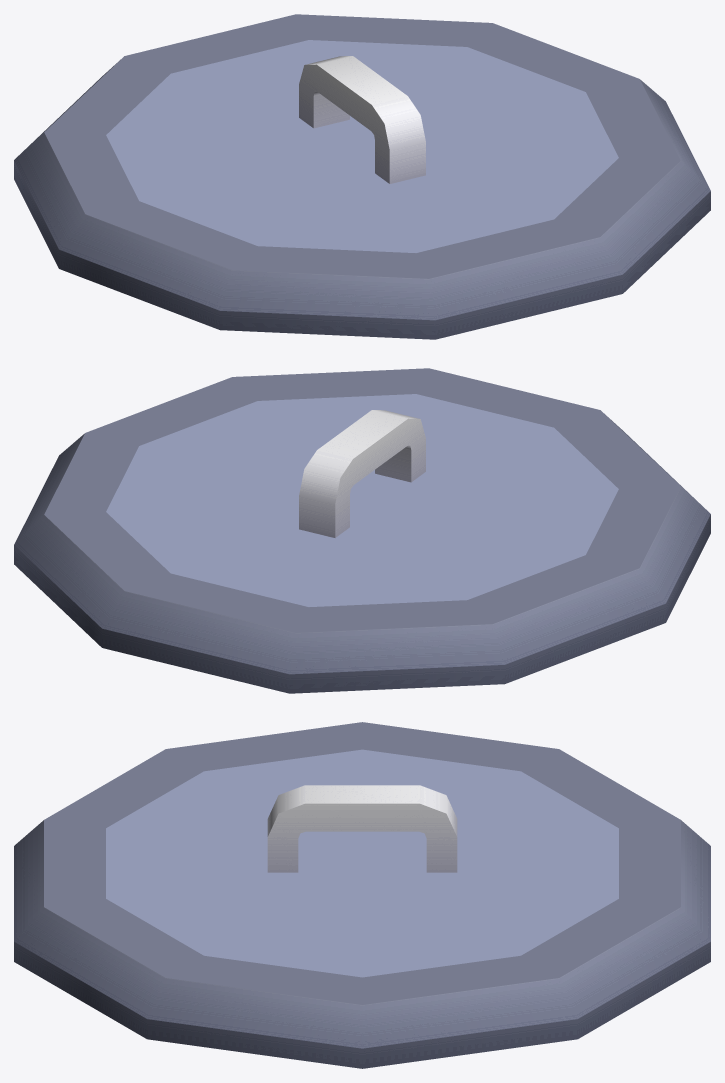
Rendered from pot-lid.glb.
3 views of the same model, one above another, from view 1: azimuth 30°, elevation 25°; view 2: azimuth 150°, elevation 25°; view 3: azimuth 270°, elevation 25° (orthographic). The views are drawn at different scales.
Parts seen in each view (by area): view 1: pot-lid; view 2: pot-lid; view 3: pot-lid.
Part boxes in pixels (x1,y1,x2,y2): pot-lid: (14, 14, 710, 339); pot-lid: (14, 368, 710, 693); pot-lid: (14, 722, 710, 1068).
Bounding box in the file's own units: 0.6574 × 0.1184 × 0.6253.
Materials: 1 (1 with a texture image).
